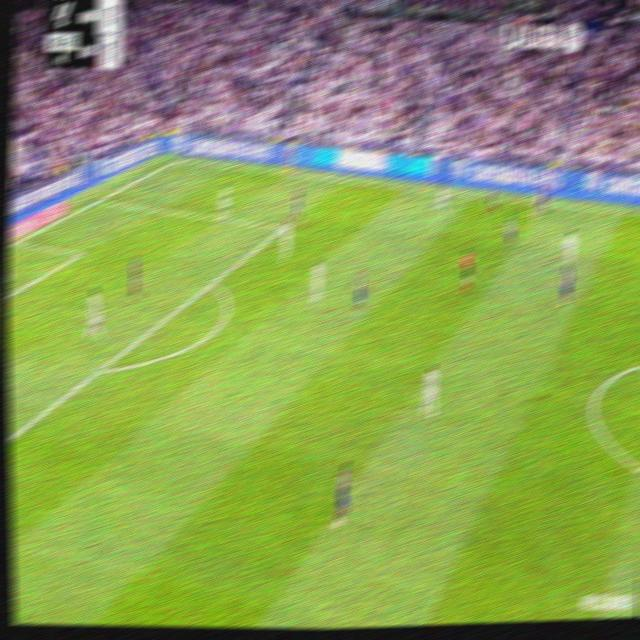bigarea_top_inner: (277, 222, 286, 234)
bigarea_top_outter: (92, 192, 106, 206)
bottom_arc_area_intersection: (93, 360, 108, 378)
corner: (170, 153, 184, 165)
smallarea_top_inner: (74, 248, 84, 259)
top_arc_area_intersection: (205, 274, 219, 291)
